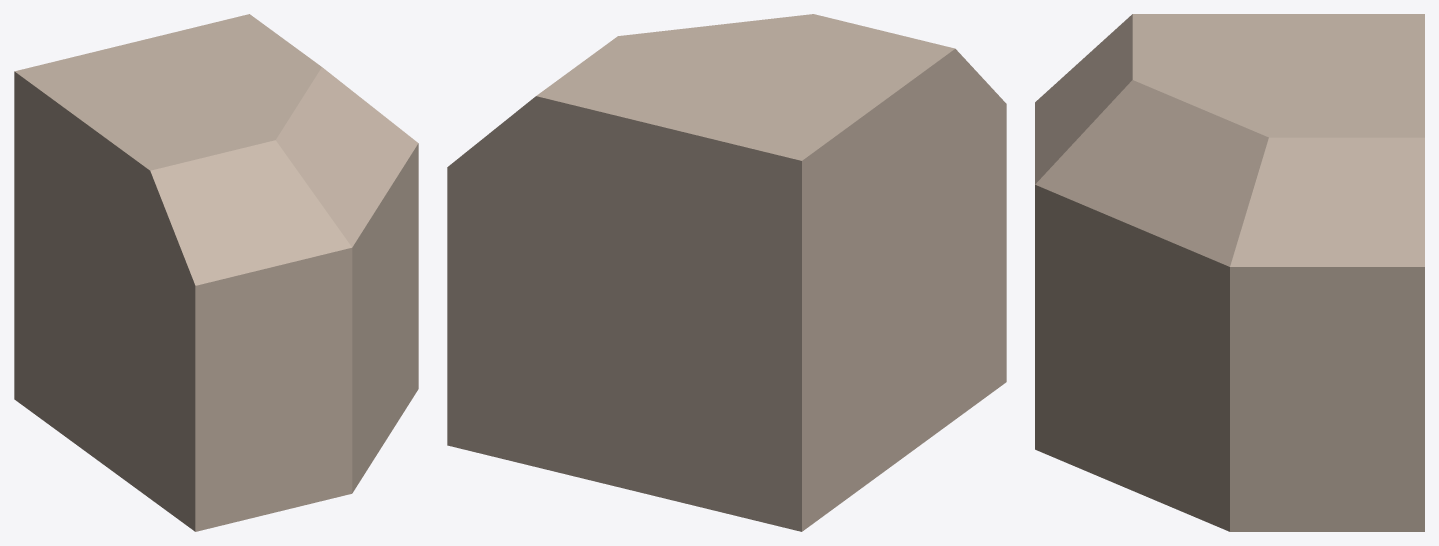
File: greek_wall_3_top_corner.fbx
3 renders of one model, left to right at view 1: azimuth 30°, elevation 25°; view 2: azimuth 150°, elevation 25°; view 3: azimuth 270°, elevation 25°, orthographic. The views are drawn at different scales.
Visible parts, largest first — view 1: Cube.058; view 2: Cube.058; view 3: Cube.058.
Boxes of the visible parts, x1,y1,x2,y2 form: Cube.058: (14,14,418,531); Cube.058: (447,14,1006,531); Cube.058: (1035,14,1424,531).
Bounding box in the file's own units: 20 × 20 × 20.
